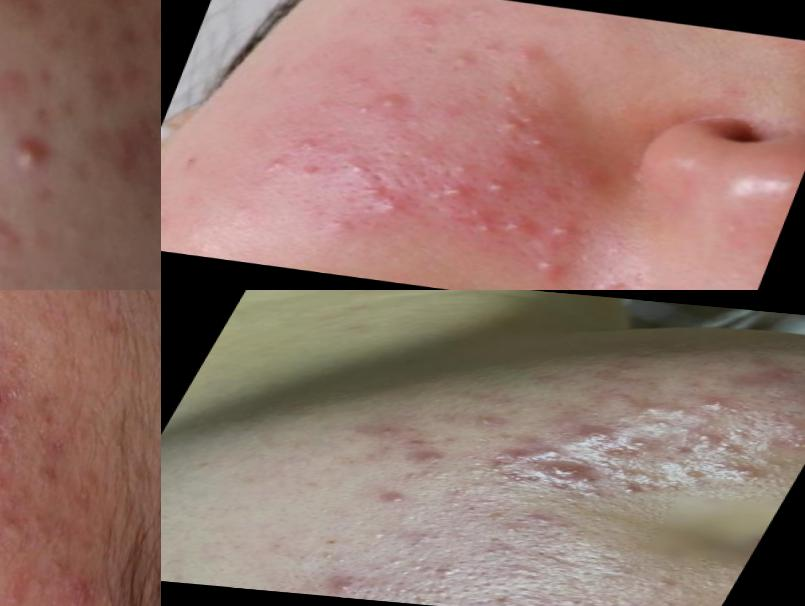acne_scars: (102, 125, 162, 182), (1, 53, 45, 110), (113, 59, 162, 105), (97, 17, 149, 60)
papular: (550, 416, 637, 454), (297, 564, 395, 596), (517, 458, 617, 488), (1, 182, 36, 266), (387, 436, 458, 472), (366, 479, 435, 510), (345, 174, 403, 206), (310, 211, 361, 243), (438, 154, 487, 184), (481, 444, 544, 466), (368, 88, 410, 116), (495, 151, 538, 178), (563, 167, 605, 193), (507, 41, 546, 69)
purulent: (1, 116, 67, 186), (616, 398, 707, 435), (669, 428, 764, 461), (711, 457, 771, 487), (604, 433, 668, 459), (495, 106, 543, 140), (491, 209, 538, 238), (681, 392, 740, 415), (430, 179, 475, 208), (759, 413, 805, 441), (522, 249, 565, 278), (539, 216, 581, 244), (476, 175, 519, 198), (371, 196, 413, 219), (514, 129, 552, 154), (462, 219, 502, 240)
whitehead: (696, 211, 752, 241), (338, 70, 382, 98), (402, 13, 448, 39), (335, 156, 377, 184), (339, 98, 385, 123), (520, 180, 564, 206), (446, 49, 484, 78), (588, 271, 633, 291), (1, 458, 17, 508), (290, 132, 328, 153), (461, 2, 499, 22), (255, 153, 287, 174)
